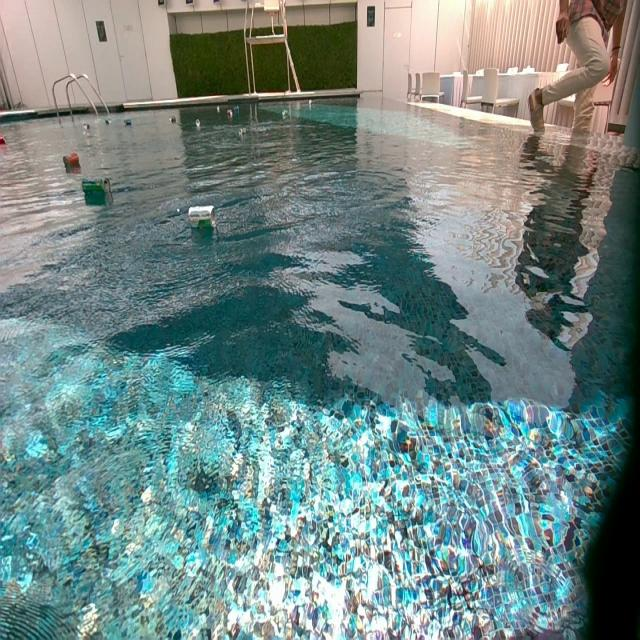Cans: (189, 203, 217, 233), (83, 178, 108, 194), (63, 154, 80, 170), (240, 128, 248, 140), (0, 136, 7, 147), (124, 118, 132, 126), (82, 122, 90, 130), (193, 118, 200, 127), (105, 117, 112, 125), (225, 110, 232, 118), (170, 115, 177, 123), (282, 109, 288, 118), (216, 107, 222, 114), (235, 106, 241, 113), (306, 99, 312, 106)
